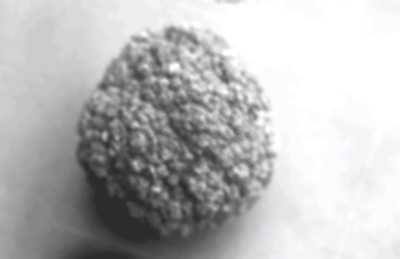halobolite: (40, 0, 315, 259)
